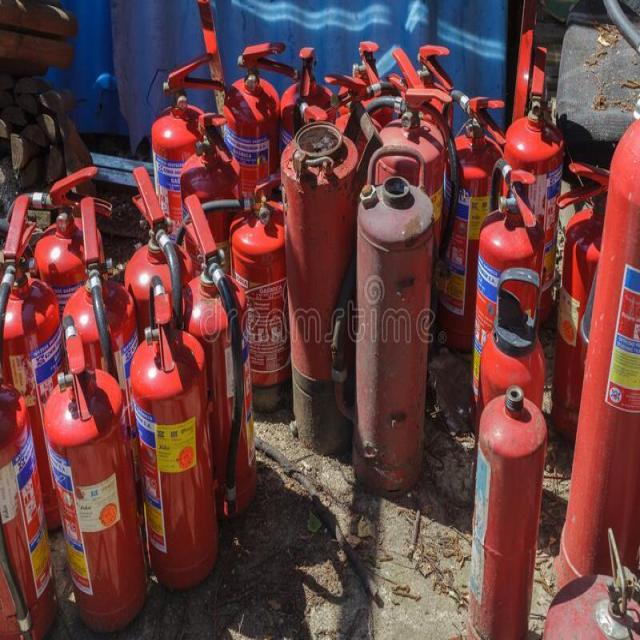fire_extinguisher: (551, 83, 639, 630), (56, 194, 182, 556), (8, 161, 118, 574), (43, 308, 149, 636), (126, 268, 223, 598), (170, 191, 264, 525), (277, 115, 363, 472), (353, 136, 436, 502), (122, 160, 199, 540), (470, 149, 548, 521), (0, 191, 82, 543), (493, 42, 565, 436), (470, 259, 550, 610), (146, 50, 228, 368), (550, 154, 636, 455), (274, 34, 342, 380), (171, 109, 257, 381), (430, 80, 510, 363), (216, 36, 300, 304), (464, 378, 550, 639), (0, 344, 66, 638), (228, 167, 296, 419), (538, 519, 639, 639)
